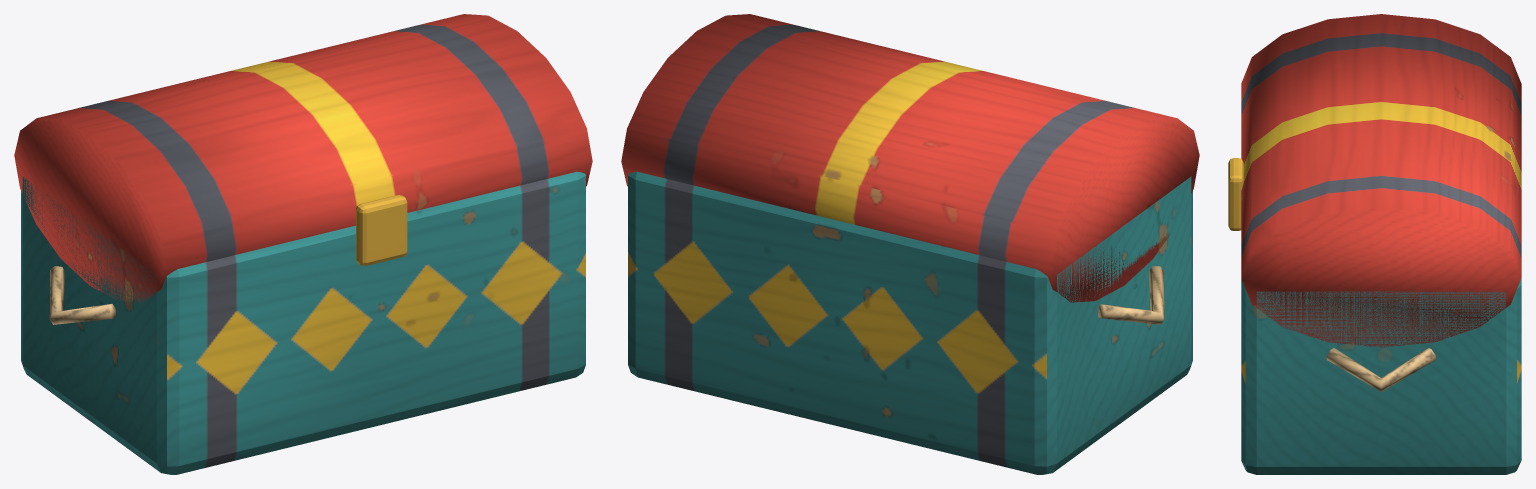
Rendered from decor_chest.glb.
3 renders of one model, left to right at view 1: azimuth 30°, elevation 25°; view 2: azimuth 150°, elevation 25°; view 3: azimuth 270°, elevation 25°, orthographic. The views are drawn at different scales.
Visible parts, largest first — view 1: DecorChest; view 2: DecorChest; view 3: DecorChest.
Part boxes in pixels (x1,y1,x2,y2): DecorChest: (14, 14, 592, 474); DecorChest: (621, 14, 1199, 474); DecorChest: (1228, 14, 1521, 474).
Bounding box in the file's own units: 1.07 × 0.5913 × 0.575.
Materials: 1 (1 with a texture image).
